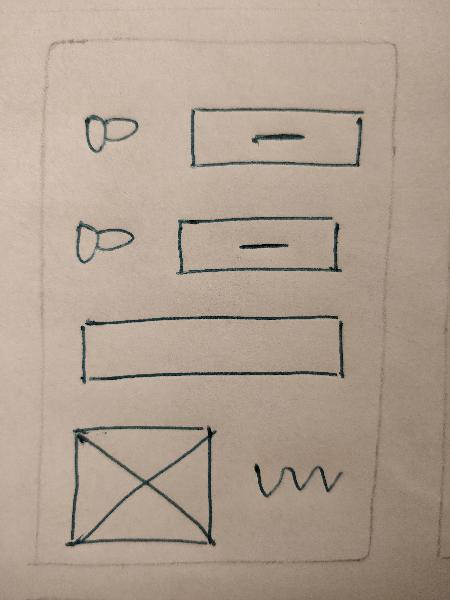button: (183, 98, 367, 182), (170, 200, 354, 284)
image: (61, 415, 225, 555)
switch: (75, 98, 143, 161), (70, 209, 138, 272)
text: (245, 452, 347, 506)
text_input: (70, 309, 352, 385)
